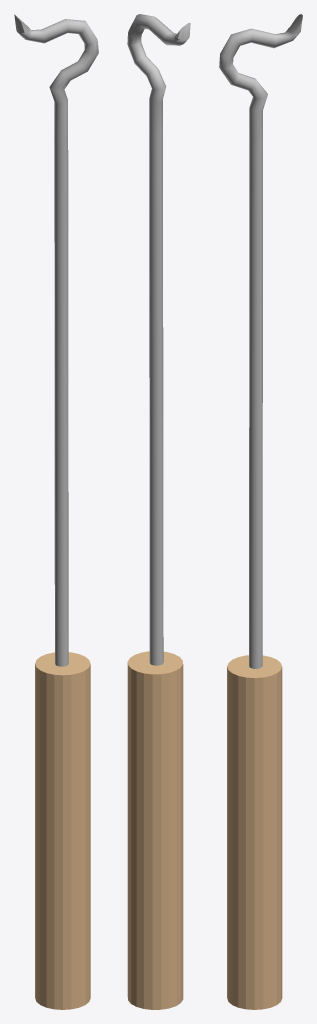
Rendered from garmet hook ee.fbx.
3 views of the same model, side by side, from view 1: azimuth 90°, elevation 25°; view 2: azimuth 210°, elevation 25°; view 3: azimuth 270°, elevation 25° (orthographic).
Visible parts, largest first — view 1: base, garmet_hook; view 2: base, garmet_hook; view 3: base, garmet_hook.
Boxes of the visible parts, x1,y1,x2,y2 form: base: (35,652,90,1009); garmet_hook: (14,14,98,666); base: (127,651,183,1009); garmet_hook: (127,14,190,665); base: (227,655,282,1009); garmet_hook: (219,14,302,668).
Bounding box in the file's own units: 2.87 × 56.37 × 4.38.
